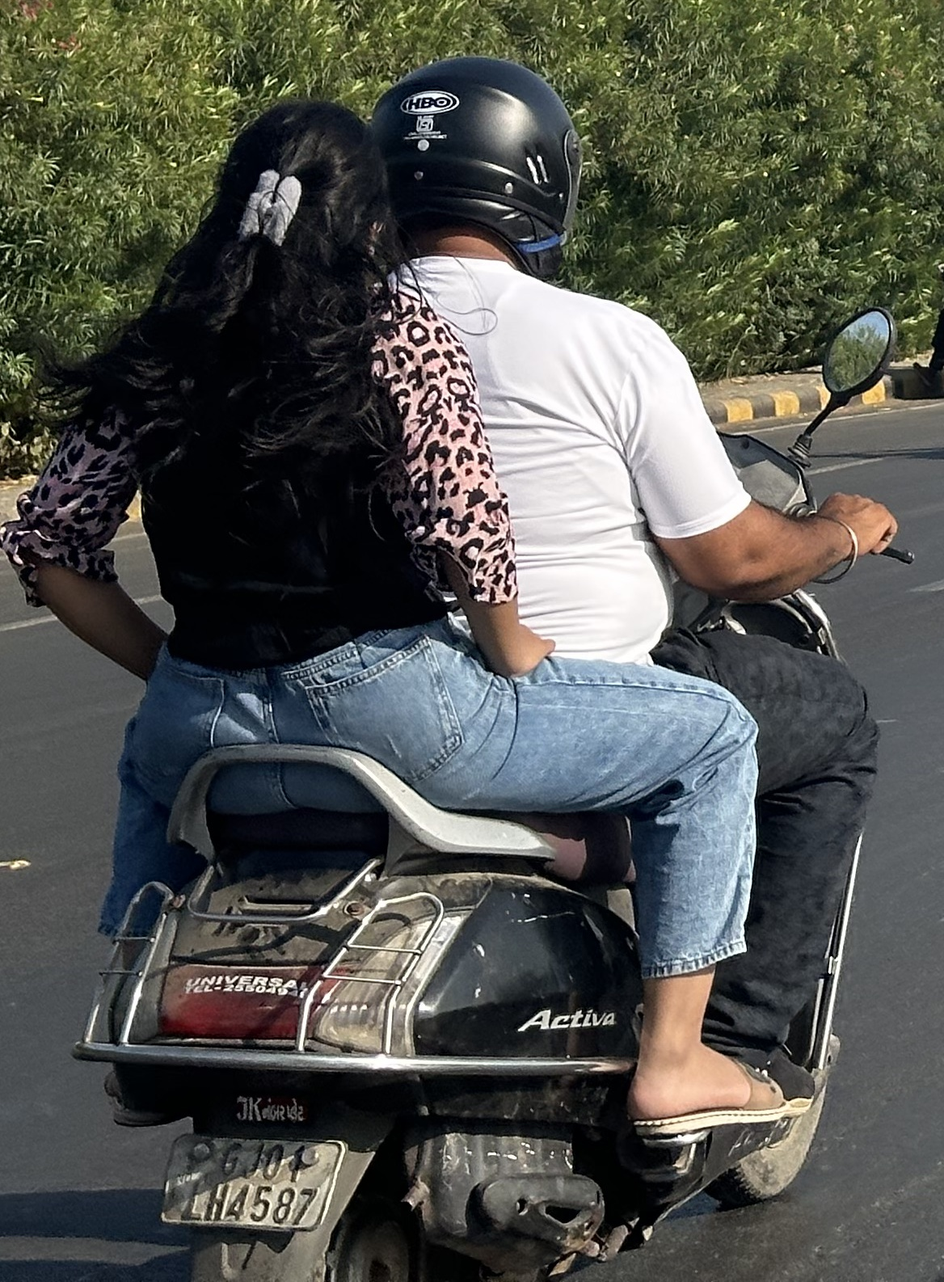BikeWithRider: (0, 42, 933, 1282)
Helmet: (350, 42, 601, 295)
NoHelmet: (175, 86, 412, 295)
